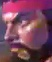ryu: (1, 0, 48, 61)
